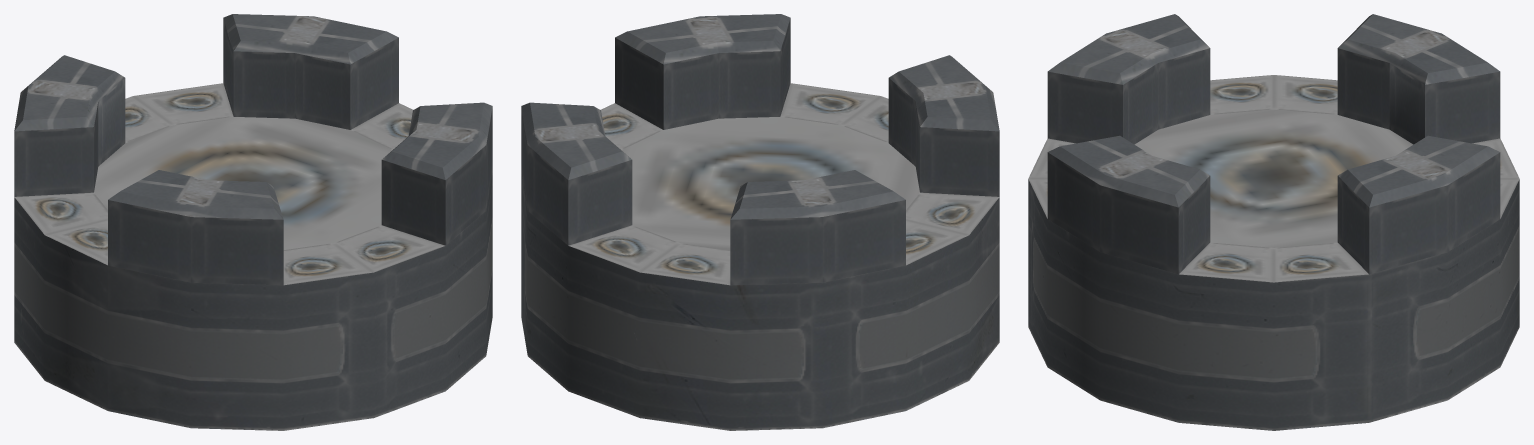
Rendered from SM_HoseSysT2.fbx.
3 renders of one model, left to right at view 1: azimuth 30°, elevation 25°; view 2: azimuth 150°, elevation 25°; view 3: azimuth 270°, elevation 25°, orthographic.
Visible parts, largest first — view 1: SM_HoseSysT2_LOD0; view 2: SM_HoseSysT2_LOD0; view 3: SM_HoseSysT2_LOD0.
Boxes of the visible parts, x1,y1,x2,y2 form: SM_HoseSysT2_LOD0: (14,14,492,430); SM_HoseSysT2_LOD0: (521,14,999,430); SM_HoseSysT2_LOD0: (1028,14,1519,430).
Bounding box in the file's own units: 30 × 30 × 15.
1 material, 1 textured.
